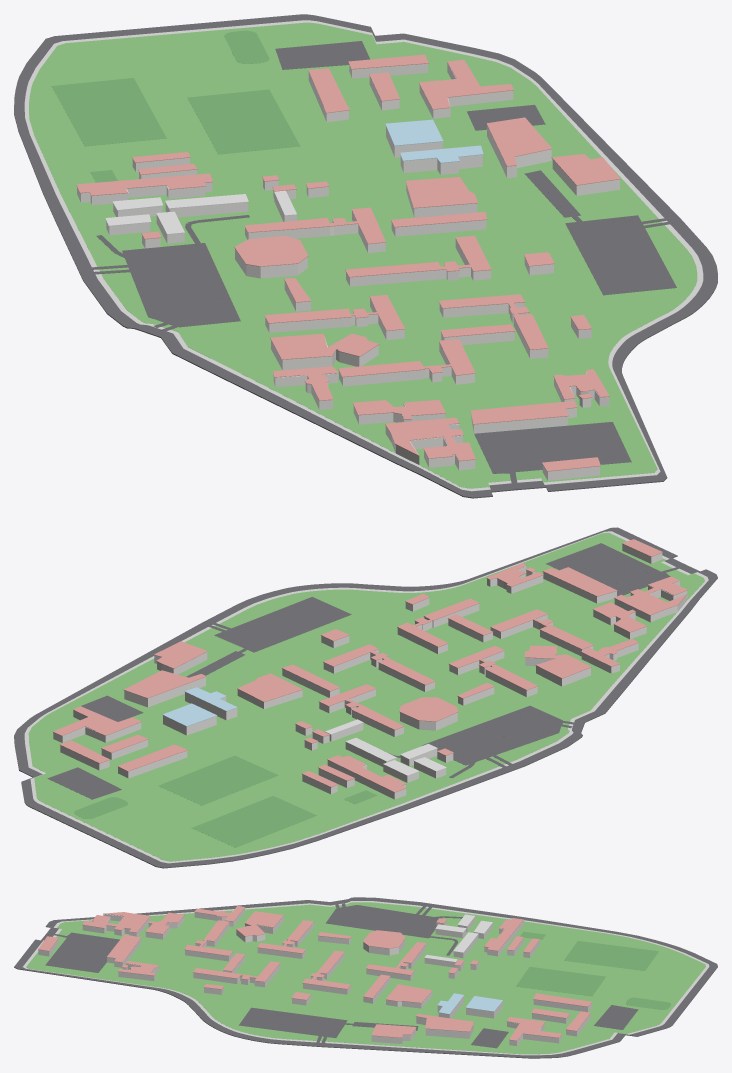
Rendered from iztacala_campus.glb.
The picture shows the model from 3 angles, top to bottom: view 1: azimuth 30°, elevation 25°; view 2: azimuth 150°, elevation 25°; view 3: azimuth 270°, elevation 25°; orthographic projection. The views are drawn at different scales.
Parts seen in each view (by area): view 1: Pasto_Campus, Calles_Perimetro, Banqueta, Cancha_Cancha_soccer, Park_412815215, Cancha_Cancha_soccer.001, Park_412815202, Park_412815264, B_UBIPRO_412815261_R, Park_412815214, B_Biblioteca_412815257_R, B_Centro_Cultural_412815205_R (+34 smaller); view 2: Pasto_Campus, Calles_Perimetro, Banqueta, Cancha_Cancha_soccer, Park_412815215, Cancha_Cancha_soccer.001, Park_412815202, Park_412815264, B_UBIPRO_412815261_R, Park_412815214, B_Biblioteca_412815257_R, B_Centro_Cultural_412815205_R (+19 smaller); view 3: Pasto_Campus, Calles_Perimetro, Banqueta, Cancha_Cancha_soccer, Park_412815215, Cancha_Cancha_soccer.001, Park_412815202, Park_412815264, B_UBIPRO_412815261_R, Park_412815214, B_Biblioteca_412815257_R, B_Centro_Cultural_412815205_R (+26 smaller).
Part boxes in pixels (x1,y1,x2,y2): Pasto_Campus: (29, 22, 697, 488); Calles_Perimetro: (14, 14, 717, 498); Banqueta: (24, 20, 703, 491); Cancha_Cancha_soccer: (51, 78, 166, 146); Park_412815215: (122, 243, 240, 327); Cancha_Cancha_soccer.001: (187, 89, 299, 154); Park_412815202: (565, 215, 676, 295); Park_412815264: (474, 422, 631, 473); B_UBIPRO_412815261_R: (385, 417, 475, 461); Park_412815214: (275, 41, 370, 69); B_Biblioteca_412815257_R: (270, 333, 379, 359); B_Centro_Cultural_412815205_R: (486, 117, 552, 166); Pasto_Campus: (28, 533, 704, 861); Calles_Perimetro: (14, 527, 717, 868); Banqueta: (24, 531, 708, 863); Cancha_Cancha_soccer: (192, 796, 316, 847); Park_412815215: (422, 705, 562, 765); Cancha_Cancha_soccer.001: (158, 755, 278, 805); Park_412815202: (214, 597, 351, 652); Park_412815264: (546, 543, 670, 596); B_UBIPRO_412815261_R: (614, 576, 687, 615); Park_412815214: (47, 767, 121, 799); B_Biblioteca_412815257_R: (524, 645, 591, 678); B_Centro_Cultural_412815205_R: (124, 670, 206, 698); Pasto_Campus: (26, 902, 705, 1054); Calles_Perimetro: (14, 897, 717, 1058); Banqueta: (23, 901, 709, 1055); Cancha_Cancha_soccer: (564, 941, 658, 970); Park_412815215: (326, 905, 442, 938); Cancha_Cancha_soccer.001: (516, 967, 605, 996); Park_412815202: (239, 1007, 347, 1037); Park_412815264: (45, 932, 119, 972); B_UBIPRO_412815261_R: (82, 912, 150, 932); Park_412815214: (594, 1005, 638, 1029); B_Biblioteca_412815257_R: (236, 911, 284, 936); B_Centro_Cultural_412815205_R: (416, 1014, 473, 1031).
Size of the model in its own units: 445 by 10.3 by 824.
